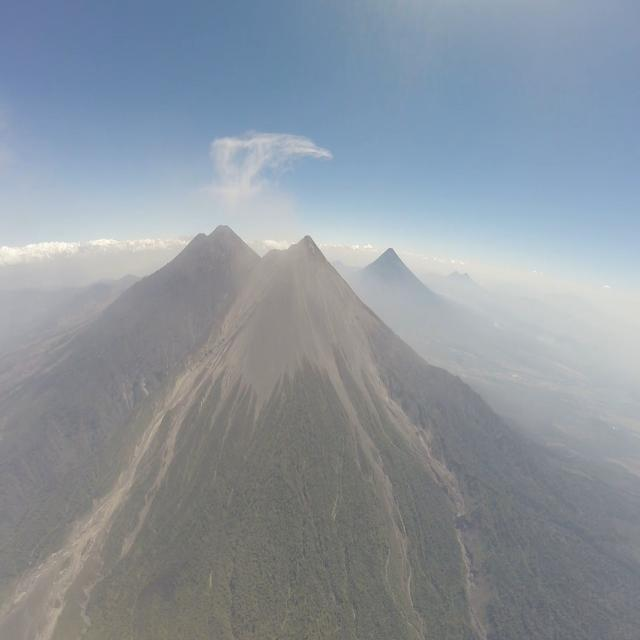Summit: (286, 232, 325, 262)
